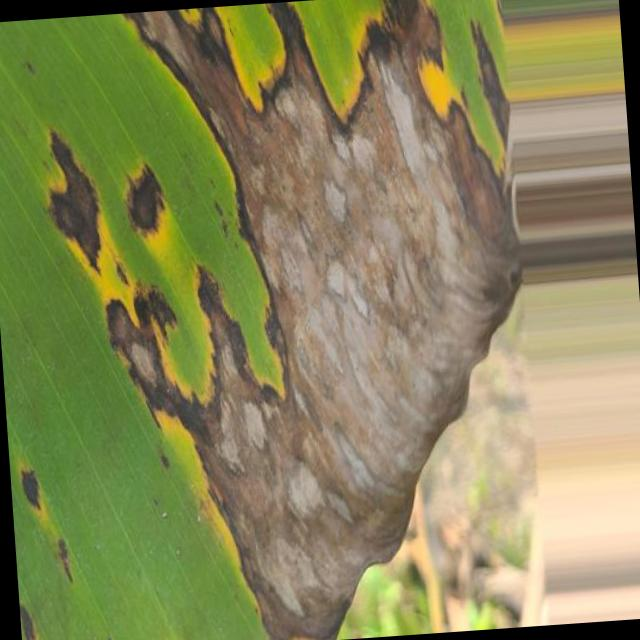Banana_Black_Sigatoka: (34, 0, 573, 640)
